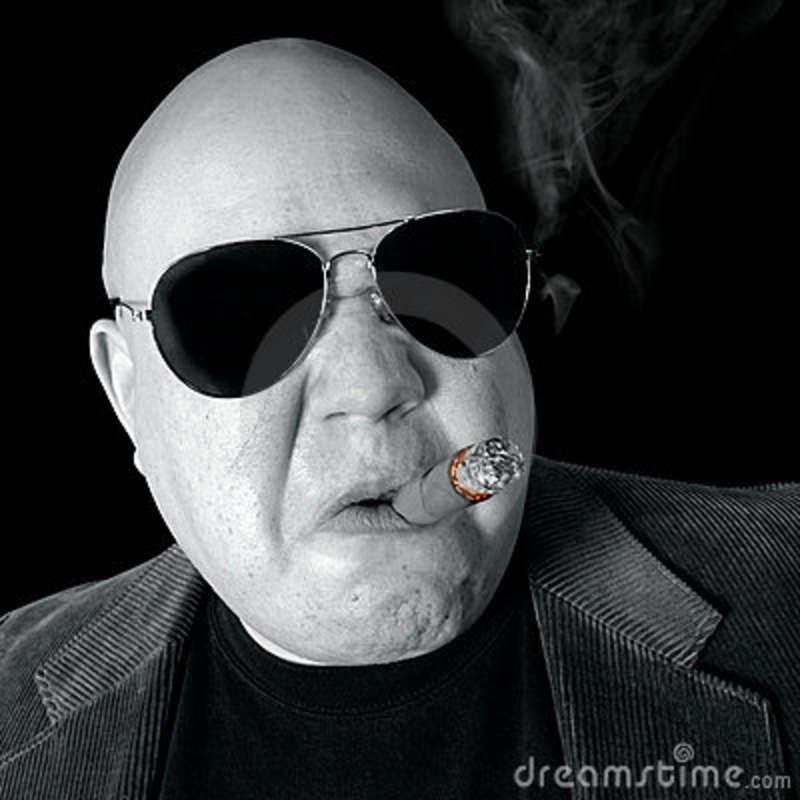cigarette: (392, 436, 521, 534)
